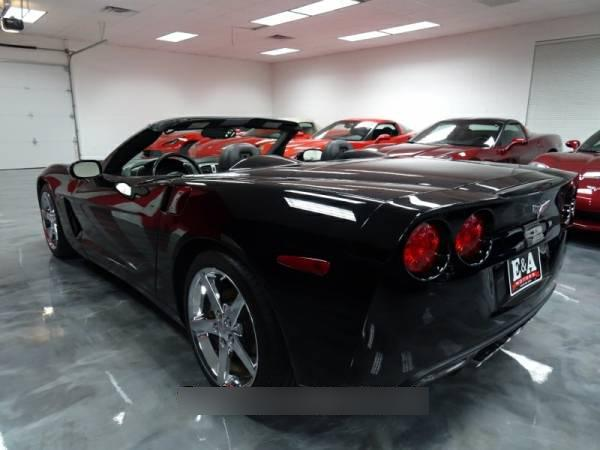Front_Fender: (35, 164, 83, 249)
Front_Left_Door: (78, 175, 177, 303)
Left_Taillight: (403, 199, 500, 279)
Rear_Bumper: (353, 218, 572, 396)
Rear_Fender: (157, 181, 414, 404)
Tailgate: (194, 155, 582, 260)
Wheel: (183, 254, 268, 398), (37, 189, 62, 257)
